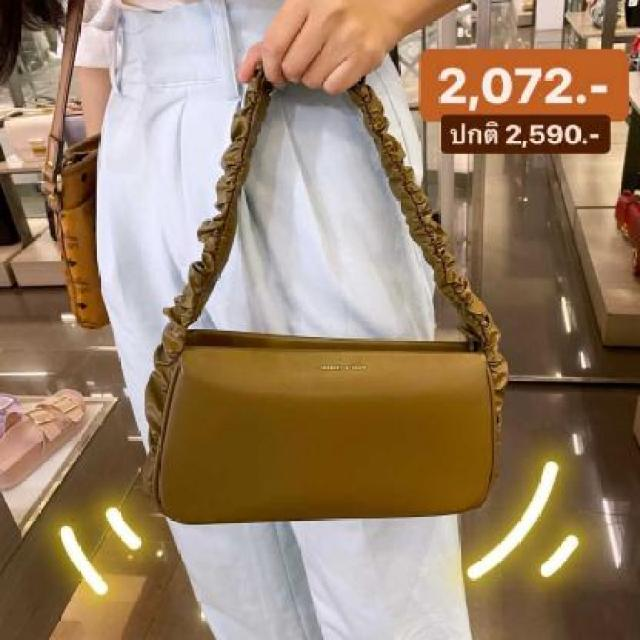Bag: (121, 40, 524, 529)
